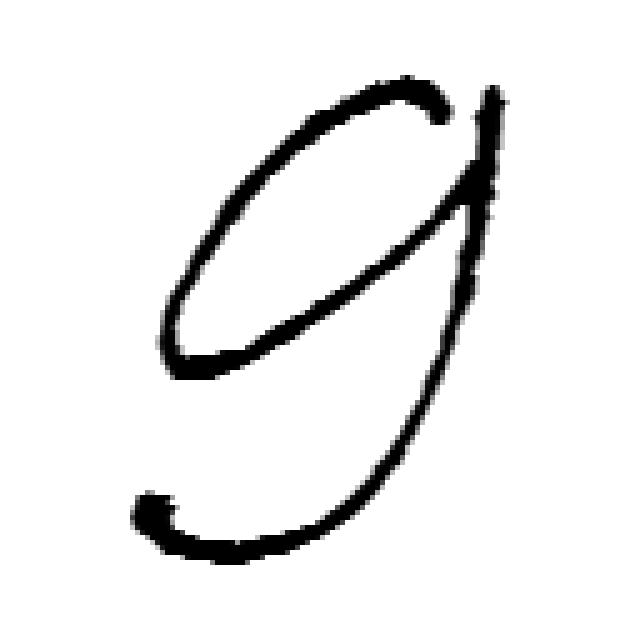G: (120, 65, 515, 570)
